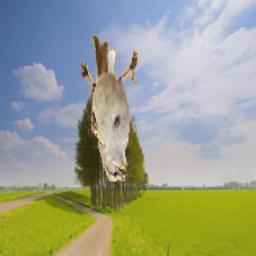Sparrow: (81, 37, 139, 183)
